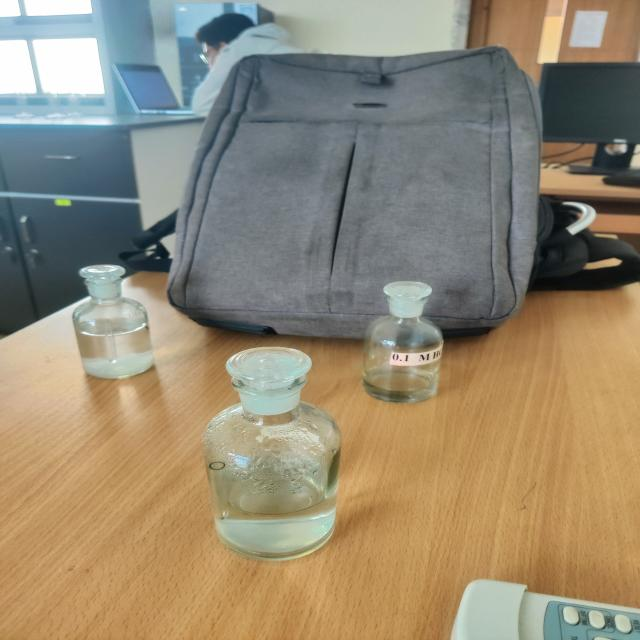Reagent_Bottle: (184, 322, 357, 573), (338, 264, 474, 417), (49, 239, 172, 395)
